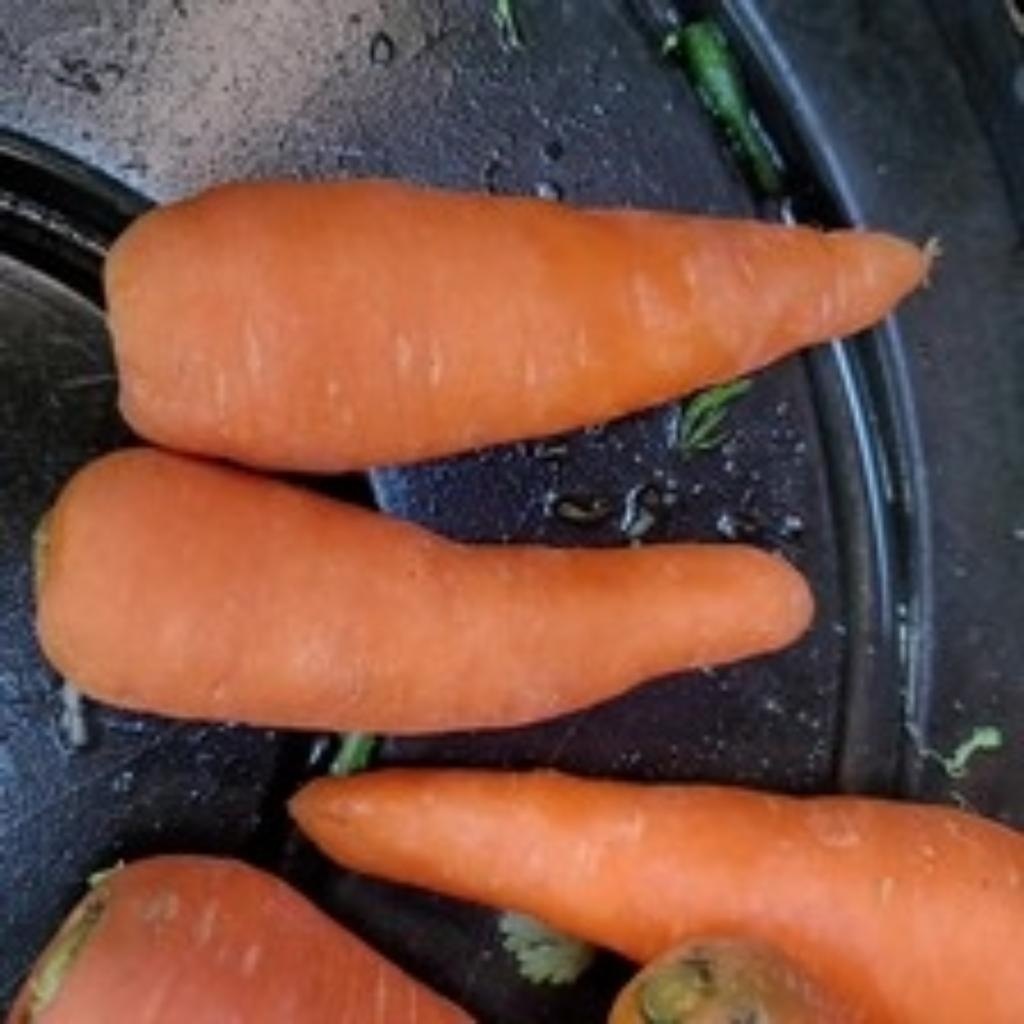carrot: (101, 178, 919, 462), (32, 443, 805, 722), (288, 763, 1015, 1015)
